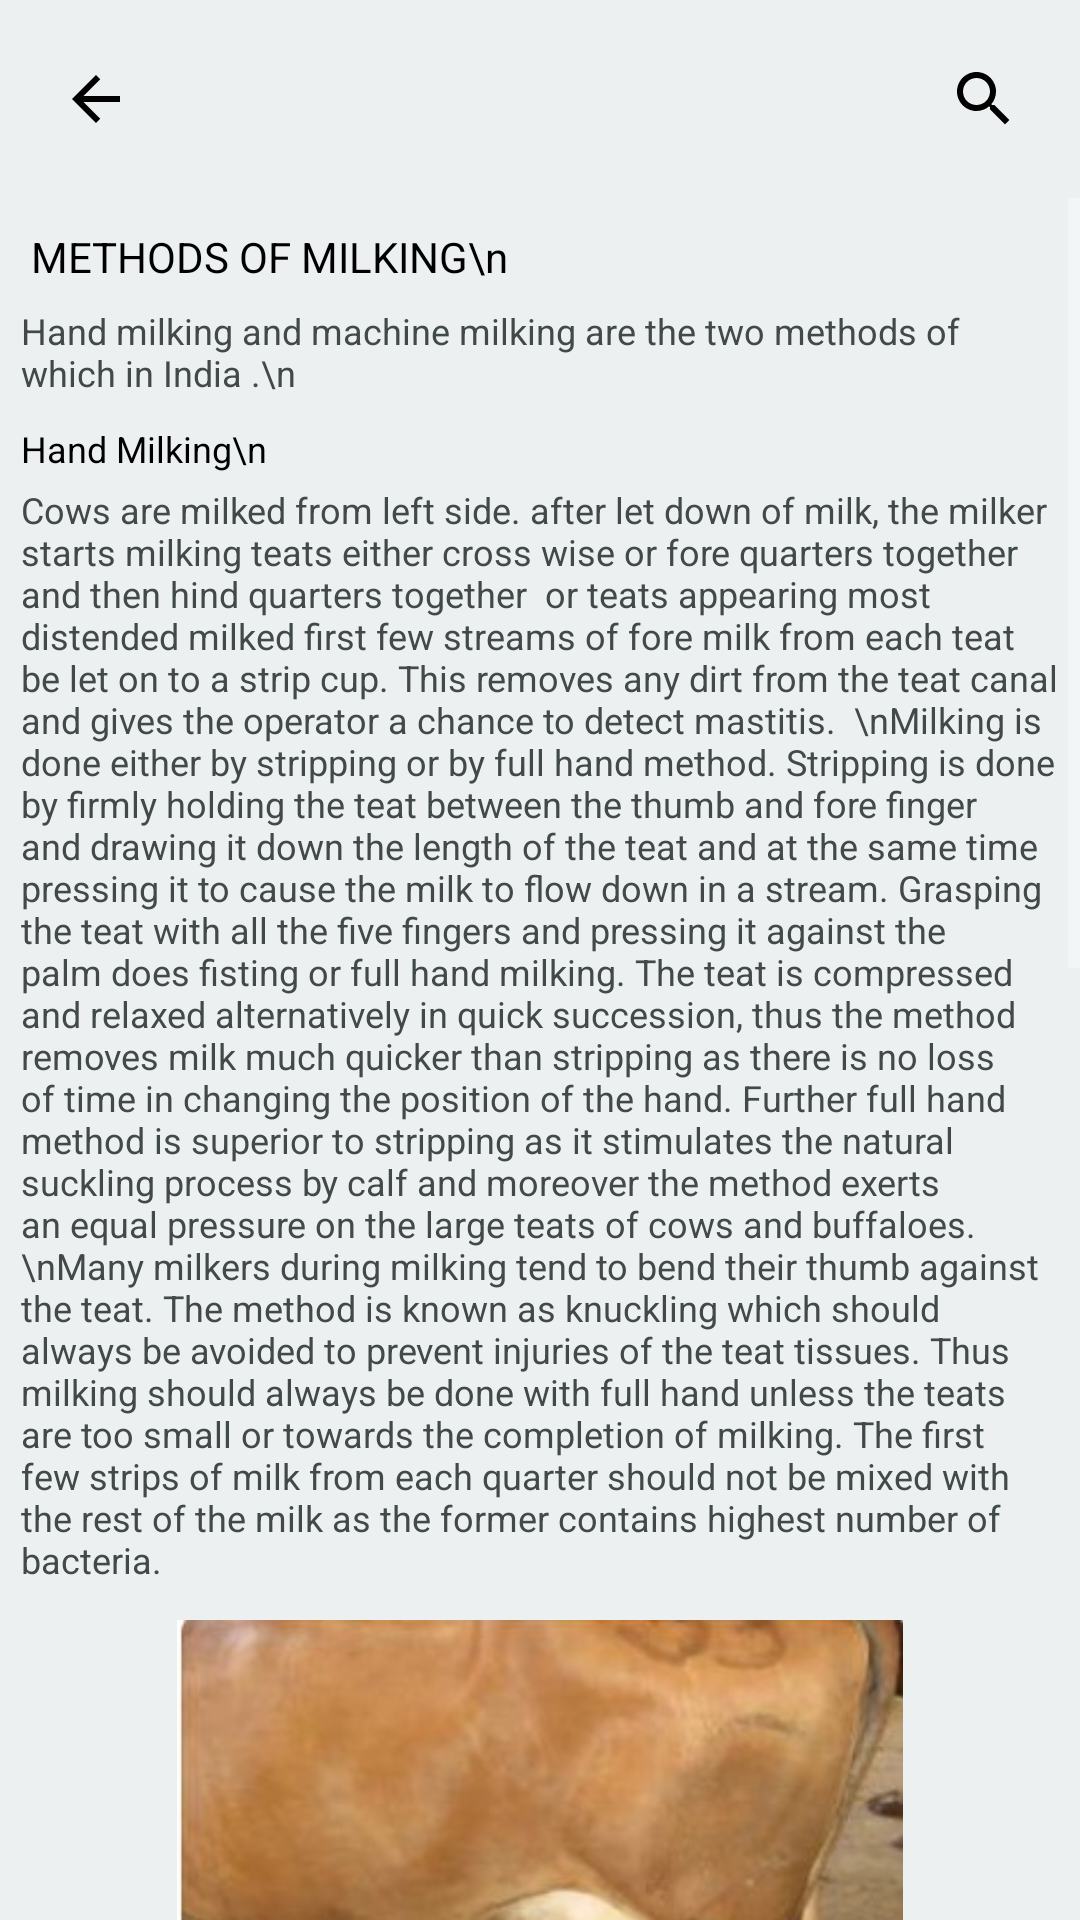

Screen size 1080*1920. Icon name, then its center in pixels as point (x, y):
arrow back: point (96, 99)
search: point (983, 98)
